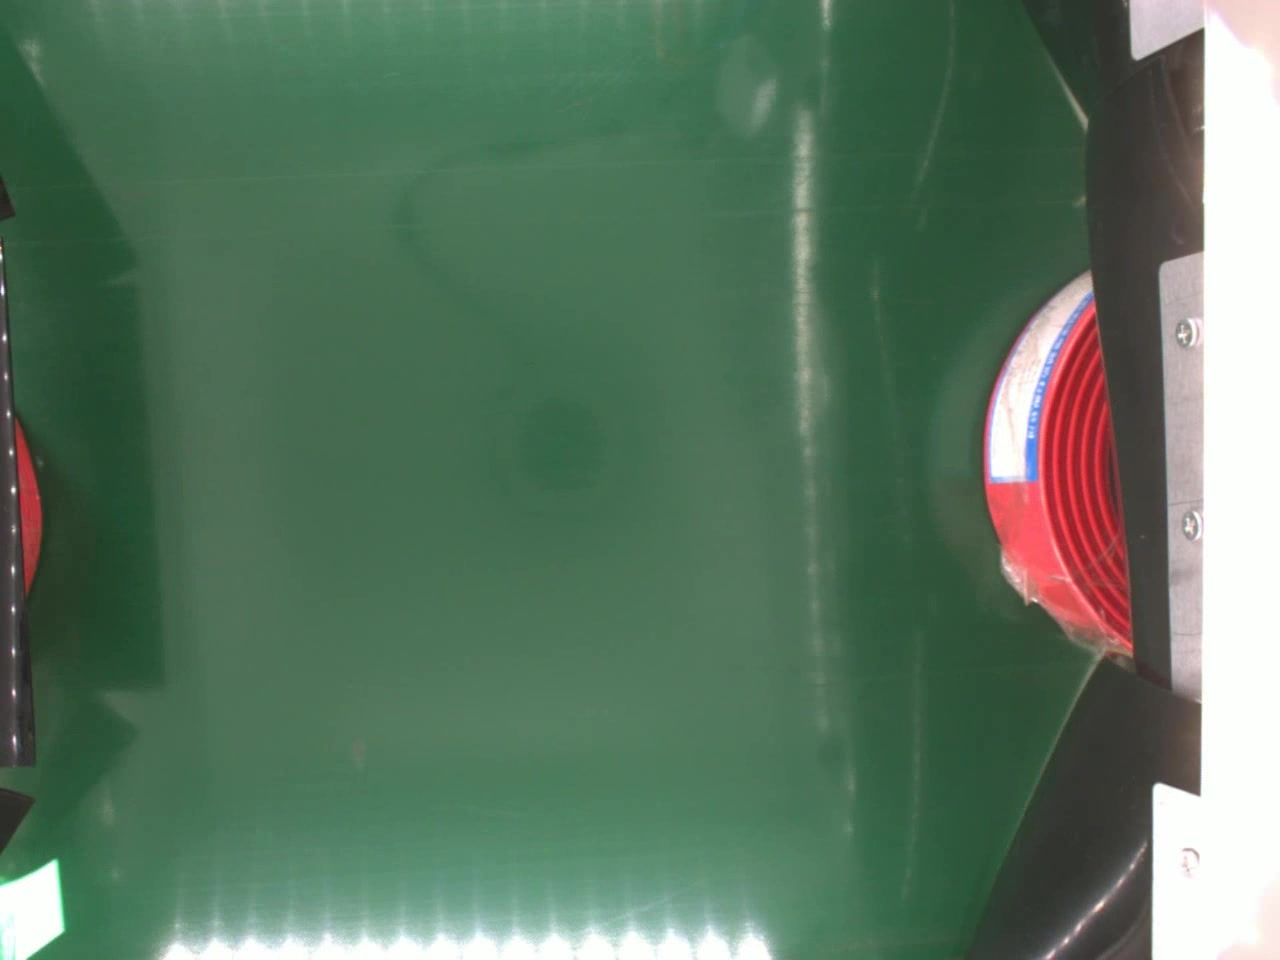red: (982, 268, 1138, 663)
